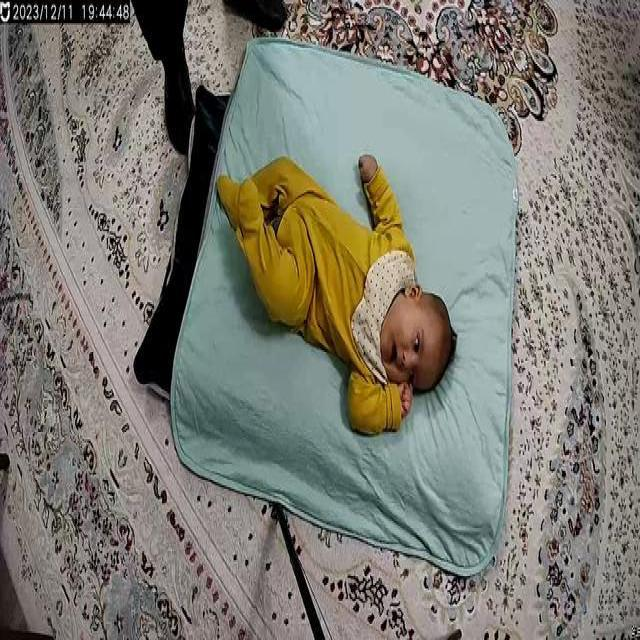baby: (213, 148, 459, 438)
